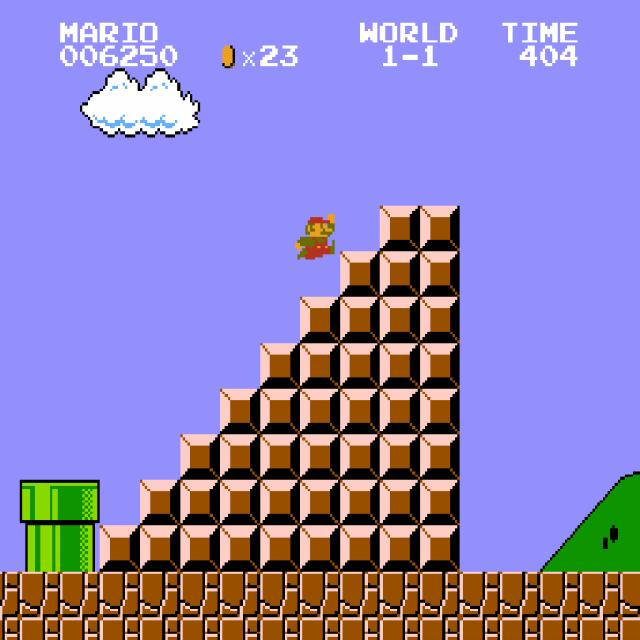hard_block: (140, 480, 180, 526), (180, 434, 220, 480), (180, 480, 220, 526), (220, 434, 260, 480), (220, 480, 260, 526), (260, 434, 300, 480), (260, 480, 300, 526), (300, 297, 340, 343), (300, 434, 340, 480), (300, 480, 340, 526), (340, 297, 380, 343), (340, 434, 380, 480), (340, 480, 380, 526), (380, 297, 420, 343), (380, 434, 420, 480), (380, 480, 420, 526), (420, 297, 460, 343), (420, 434, 460, 480), (420, 480, 460, 526), (100, 526, 140, 571), (140, 526, 180, 571), (180, 526, 220, 571), (220, 389, 260, 434), (220, 526, 260, 571), (260, 343, 300, 388), (260, 389, 300, 434), (260, 526, 300, 571), (300, 343, 340, 388), (300, 389, 340, 434), (300, 526, 340, 571), (340, 252, 380, 297), (340, 343, 380, 388), (340, 389, 380, 434), (340, 526, 380, 571), (380, 206, 420, 251), (380, 252, 420, 297), (380, 343, 420, 388), (380, 389, 420, 434), (380, 526, 420, 571), (420, 206, 460, 251), (420, 252, 460, 297), (420, 343, 460, 388), (420, 389, 460, 434), (420, 526, 460, 571)
little_mario: (292, 211, 335, 260)
pipe: (20, 526, 60, 571), (60, 526, 100, 571)
pipe_head: (20, 480, 60, 526), (60, 480, 100, 526)
undestructible_block: (20, 572, 60, 617), (60, 572, 100, 617), (100, 572, 140, 617), (140, 572, 180, 617), (180, 572, 220, 617), (220, 572, 260, 617), (260, 572, 300, 617), (300, 572, 340, 617), (340, 572, 380, 617), (380, 572, 420, 617), (420, 572, 460, 617), (460, 572, 500, 617), (500, 572, 540, 617), (540, 572, 580, 617), (580, 572, 620, 617), (20, 617, 60, 640), (60, 617, 100, 640), (100, 617, 140, 640), (140, 617, 180, 640), (180, 617, 220, 640), (220, 617, 260, 640), (260, 617, 300, 640), (300, 617, 340, 640), (340, 617, 380, 640), (380, 617, 420, 640), (420, 617, 460, 640), (460, 617, 500, 640), (500, 617, 540, 640), (540, 617, 580, 640), (580, 617, 620, 640), (0, 572, 20, 617), (620, 572, 640, 617), (0, 617, 20, 640), (620, 617, 640, 640)
